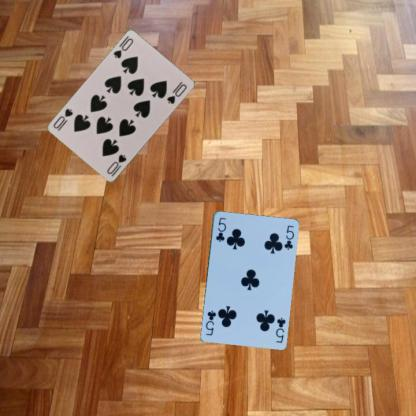10s: (104, 152, 128, 178), (111, 36, 135, 60)
5c: (272, 315, 286, 344), (213, 215, 227, 243)
